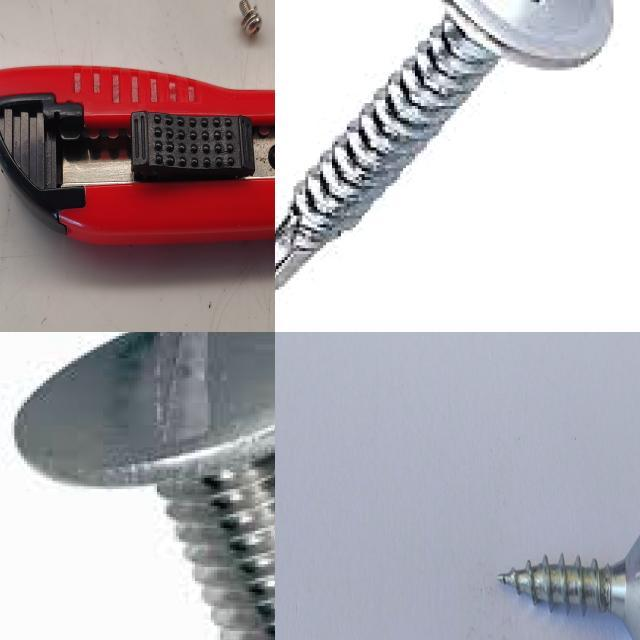Screw: (275, 0, 613, 293), (14, 332, 275, 640), (498, 535, 640, 640), (236, 0, 266, 41)
